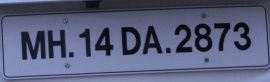character: (20, 28, 46, 61), (119, 25, 140, 56), (141, 25, 163, 54), (46, 28, 66, 59), (94, 25, 113, 57), (173, 23, 193, 53), (193, 22, 213, 52), (233, 21, 251, 51), (213, 21, 230, 52), (78, 28, 91, 57)
